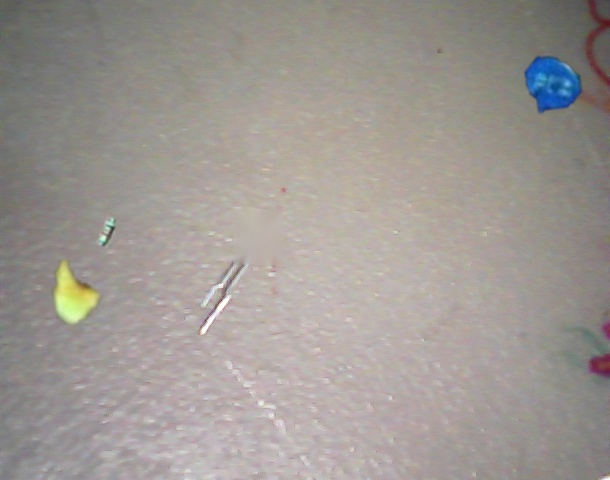capacitor: (525, 56, 582, 113), (52, 260, 101, 325)
resistor: (96, 216, 119, 248)
